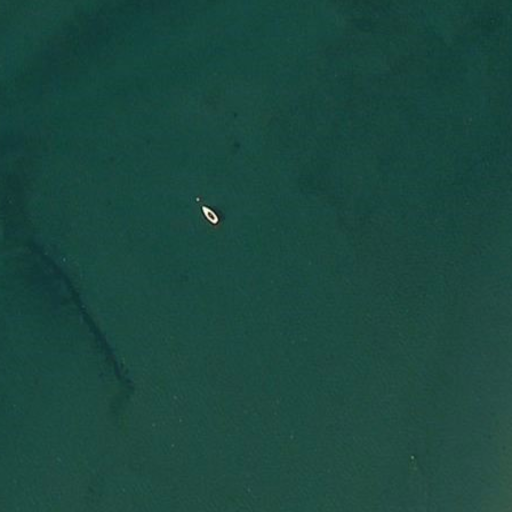ship: (197, 202, 222, 228)
